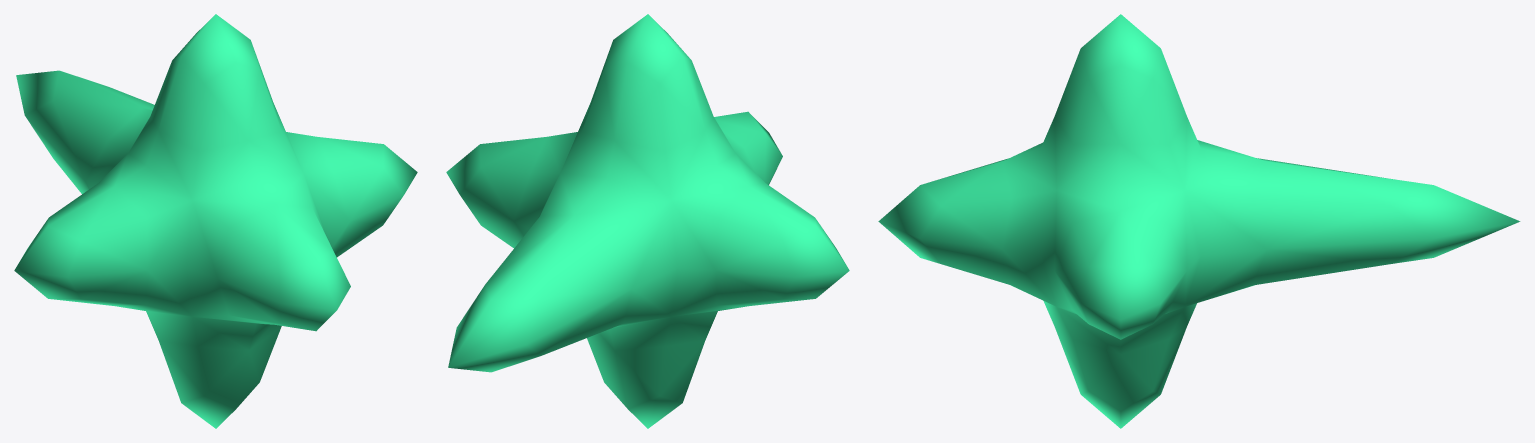
The model's file is Spikeball_4.FBX.
3 views of the same model, side by side, from view 1: azimuth 30°, elevation 25°; view 2: azimuth 150°, elevation 25°; view 3: azimuth 270°, elevation 25° (orthographic).
Visible parts, largest first — view 1: Spikeball_4_nurms_mesh; view 2: Spikeball_4_nurms_mesh; view 3: Spikeball_4_nurms_mesh.
Boxes of the visible parts, box(x1,y1,x2,y2) form: Spikeball_4_nurms_mesh: box(14, 14, 417, 428); Spikeball_4_nurms_mesh: box(446, 14, 849, 428); Spikeball_4_nurms_mesh: box(878, 14, 1520, 428).
Size of the model in its own units: 121 by 119 by 167.
